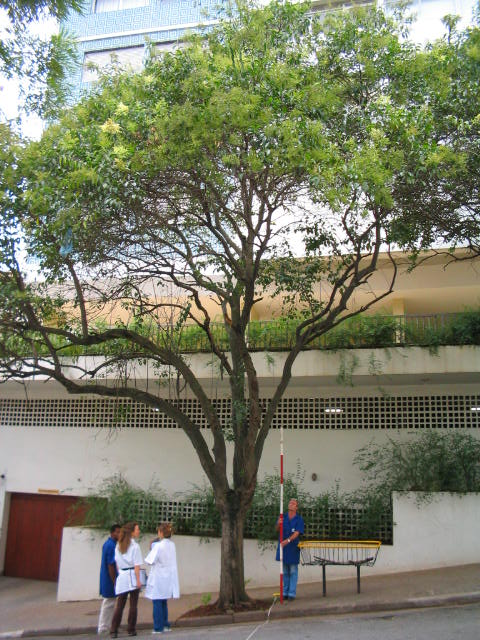crown: (4, 4, 467, 378)
stem: (201, 507, 261, 607)
stick: (273, 426, 289, 605)
tree: (2, 2, 468, 608)
